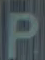Parking: (1, 7, 38, 59)
